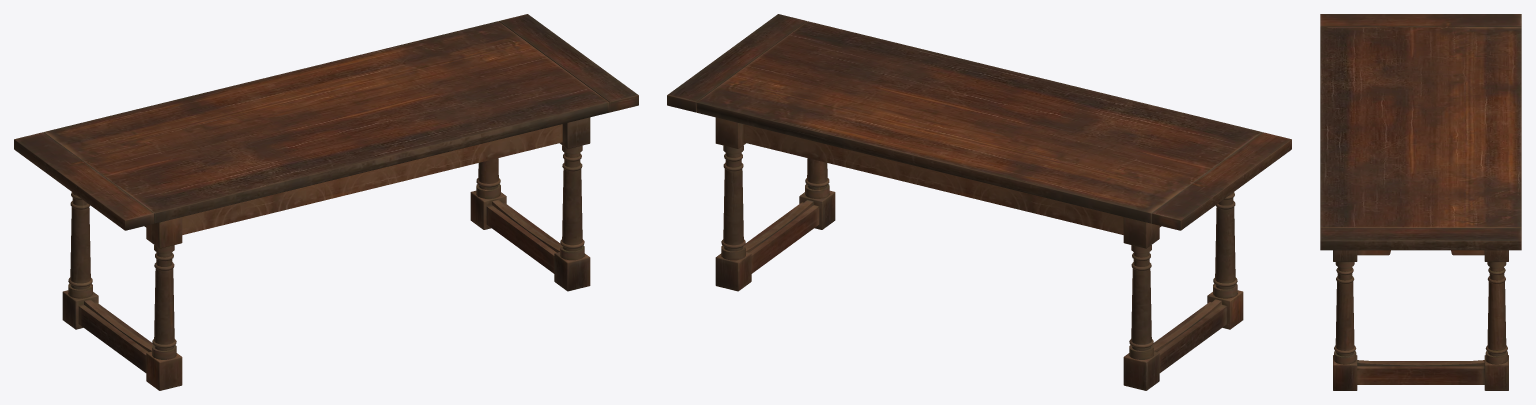
Rendered from table.glb.
The picture shows the model from 3 angles, left to right: view 1: azimuth 30°, elevation 25°; view 2: azimuth 150°, elevation 25°; view 3: azimuth 270°, elevation 25°; orthographic projection. The views are drawn at different scales.
Visible parts, largest first — view 1: Object_4; view 2: Object_4; view 3: Object_4.
Part boxes in pixels (left/top/right/bottom): Object_4: left=14, top=14, right=638, bottom=390; Object_4: left=667, top=14, right=1291, bottom=390; Object_4: left=1320, top=14, right=1521, bottom=390.
Size of the model in its own units: 7.15 by 2.47 by 2.68.
Materials: 1 (1 with a texture image).
